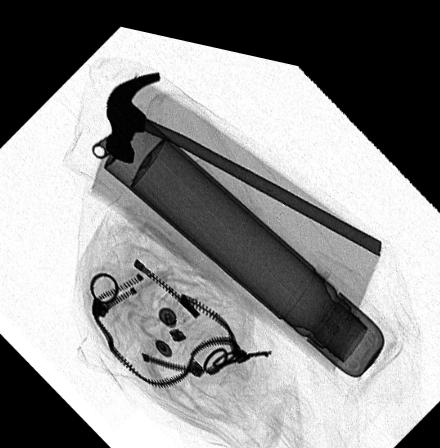Hammer: (104, 62, 381, 238)
